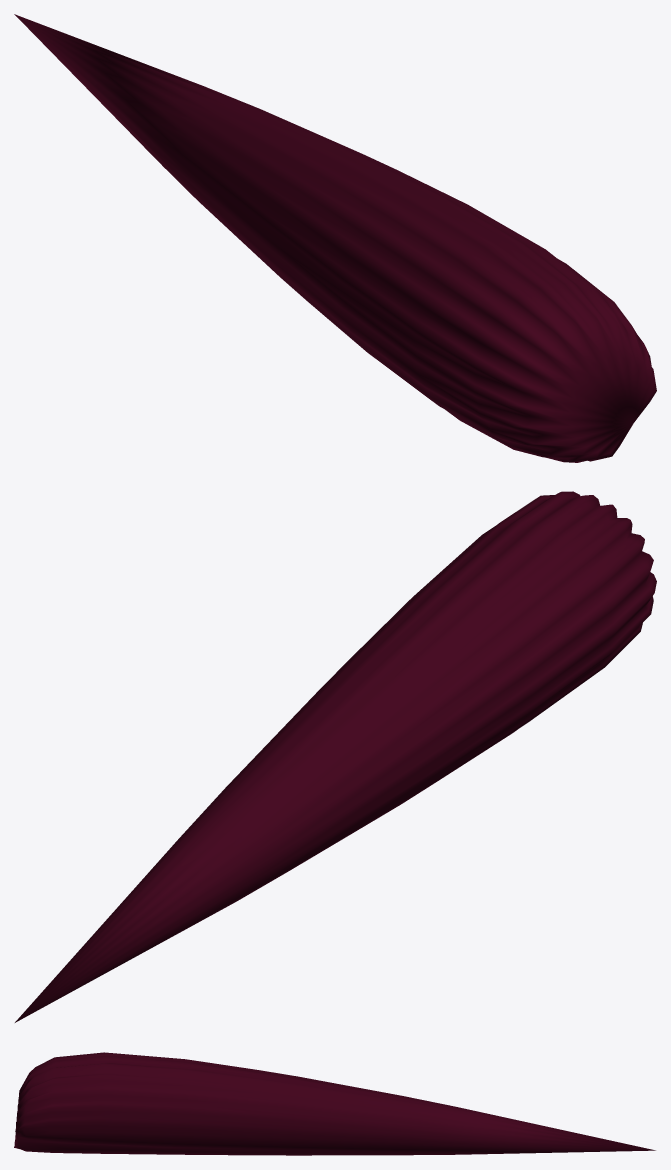
Rendered from Bullet2.fbx.
The picture shows the model from 3 angles, top to bottom: view 1: azimuth 30°, elevation 25°; view 2: azimuth 150°, elevation 25°; view 3: azimuth 270°, elevation 25°; orthographic projection. The views are drawn at different scales.
Parts seen in each view (by area): view 1: pCone1; view 2: pCone1; view 3: pCone1.
Boxes of the visible parts, x1,y1,x2,y2 form: pCone1: [14, 14, 656, 462]; pCone1: [15, 491, 656, 1022]; pCone1: [14, 1052, 655, 1155].
Bounding box in the file's own units: 0.2773 × 0.2789 × 1.75.
